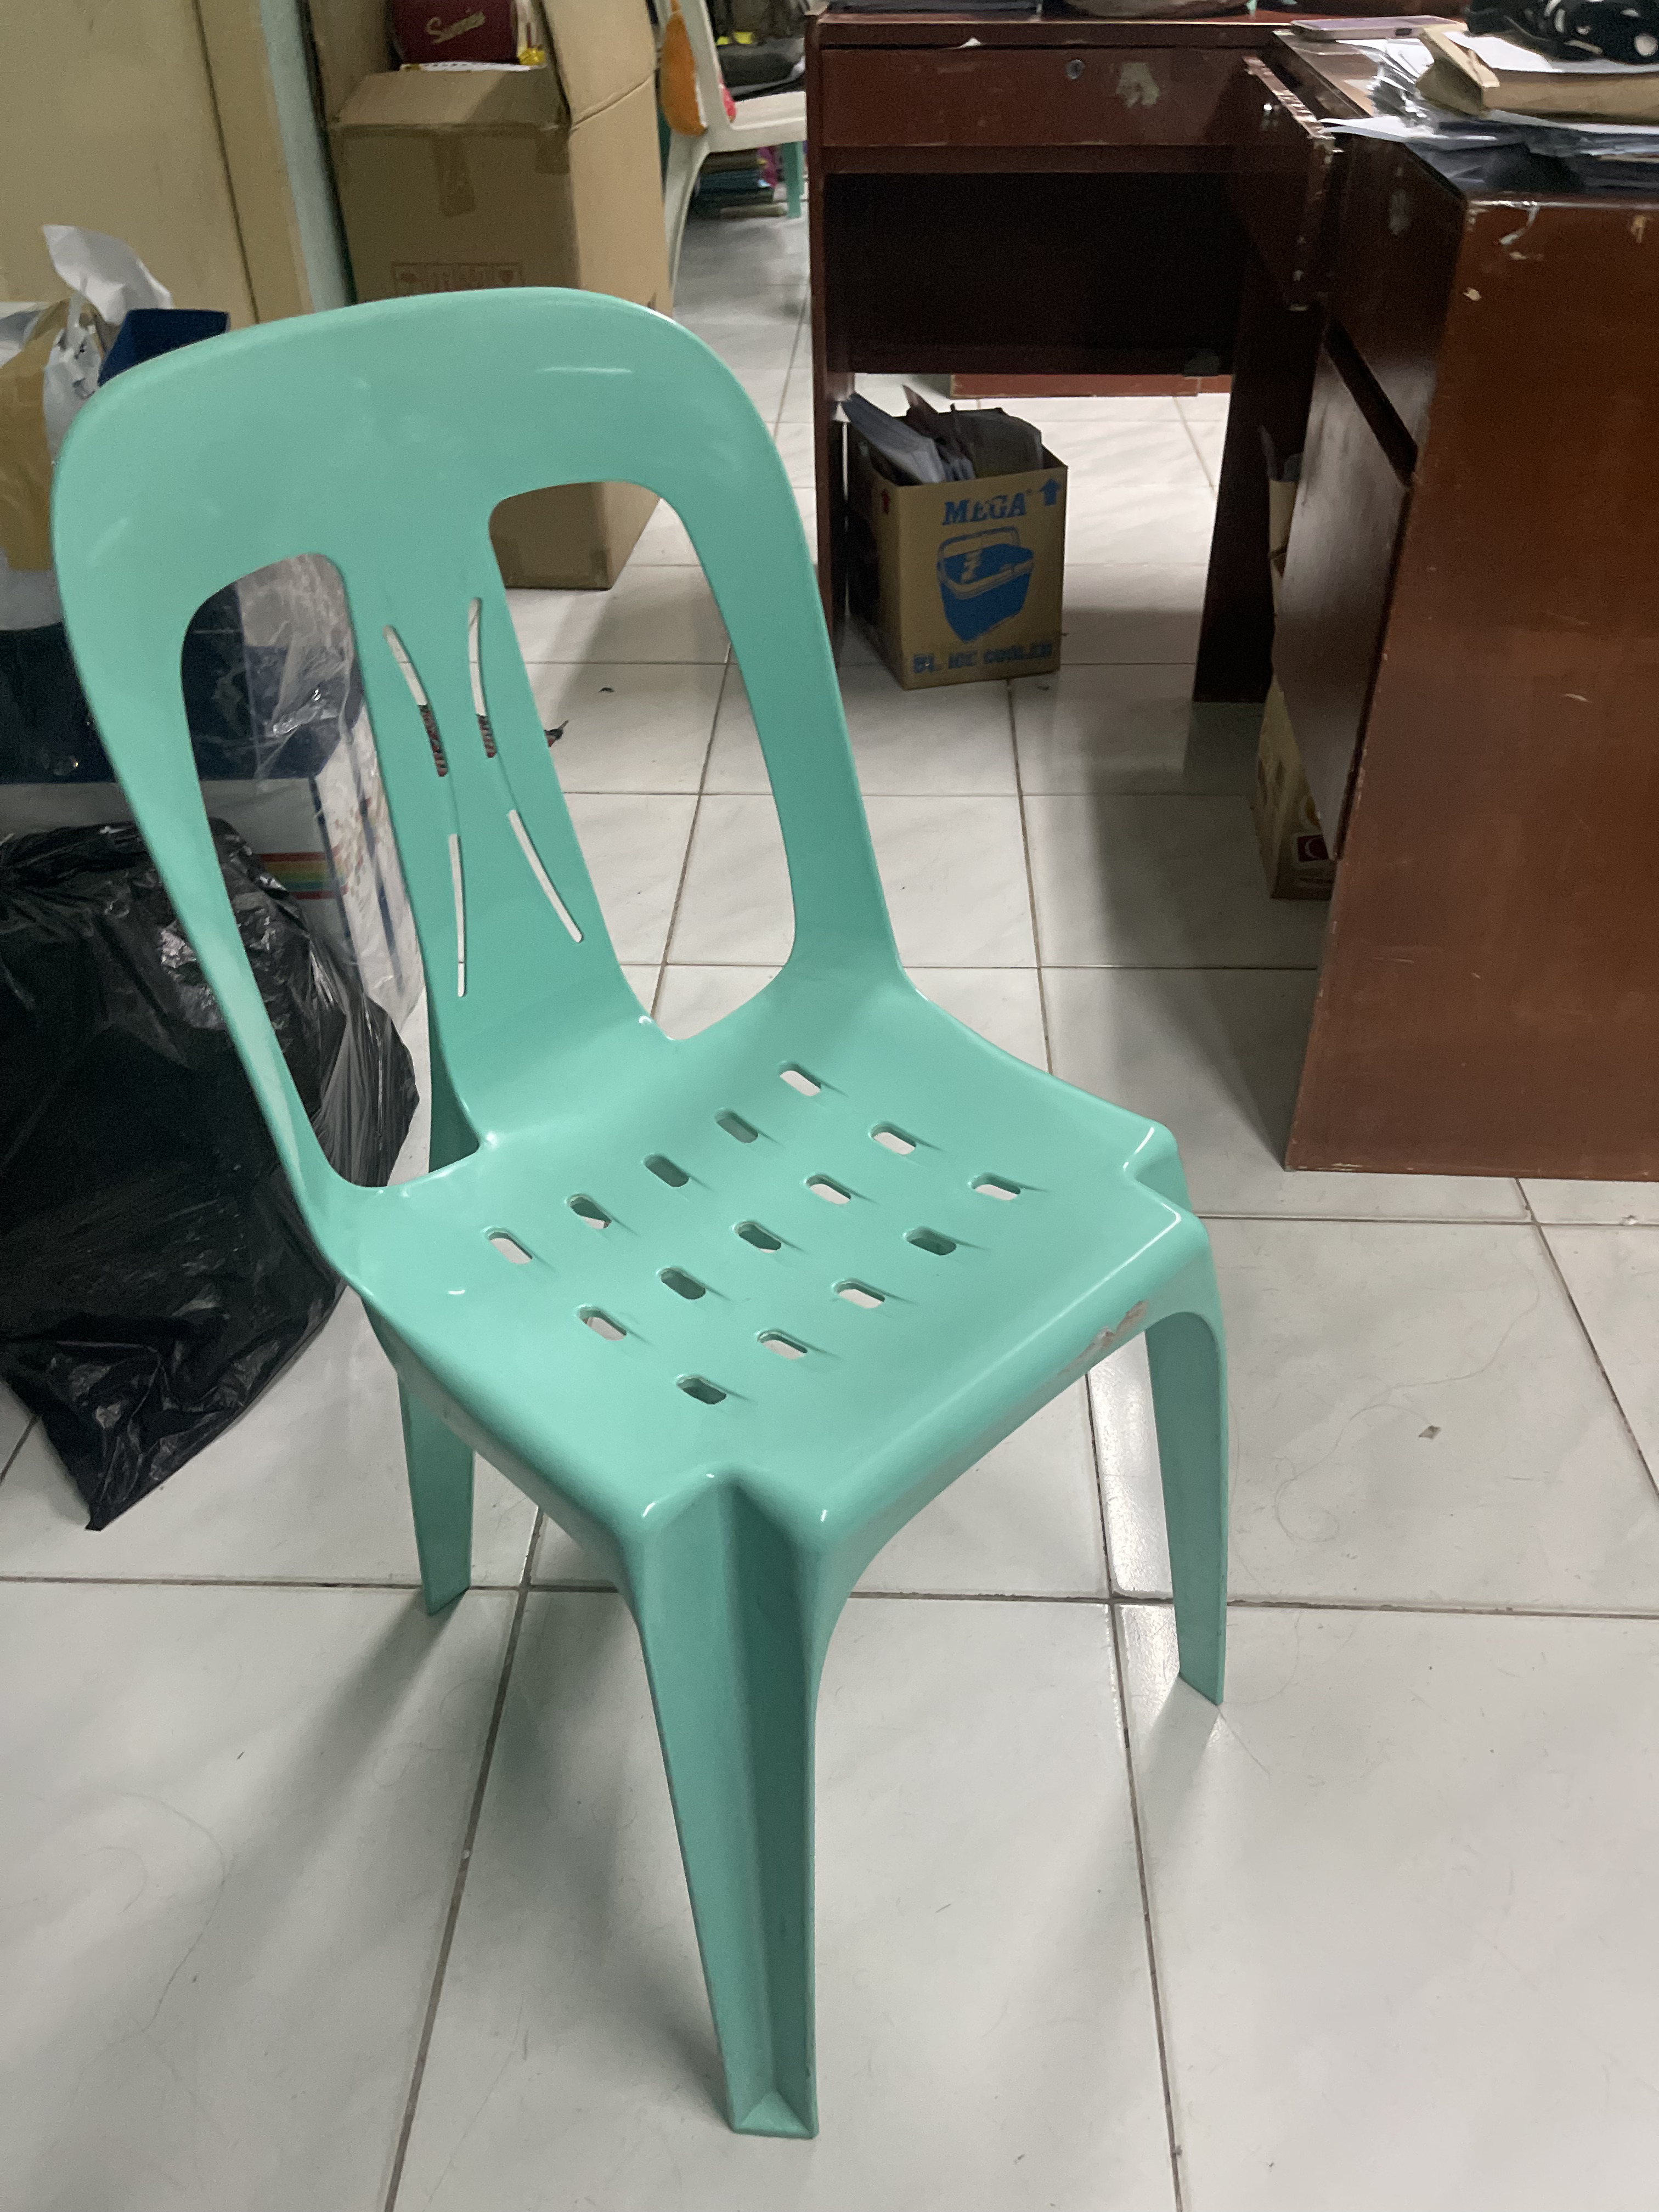chair2: (40, 279, 1246, 2160)
